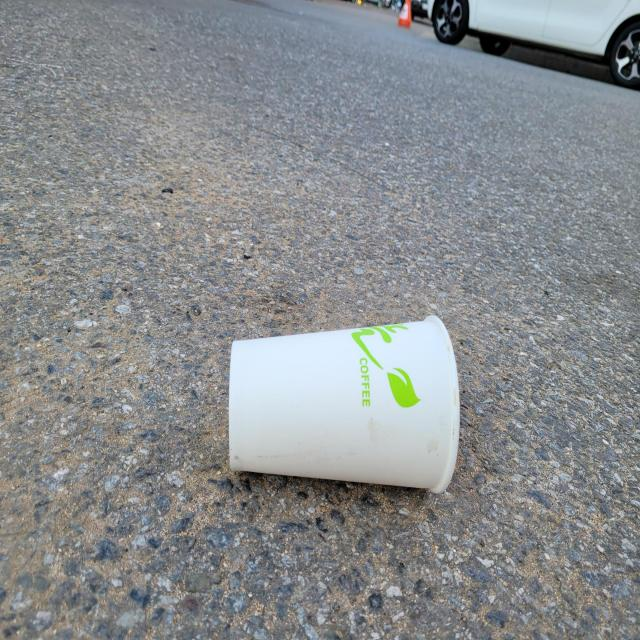paperpack: (229, 316, 460, 494)
